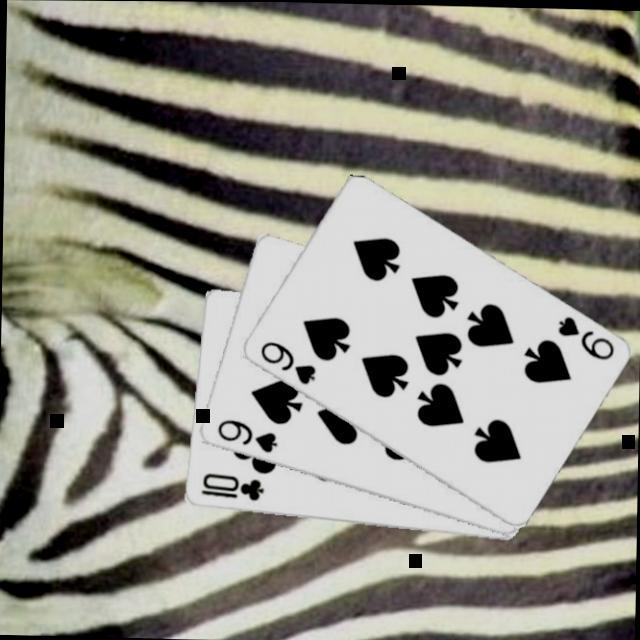10C: (198, 468, 268, 503)
9S: (553, 310, 618, 361), (257, 336, 320, 386), (214, 415, 281, 454)
